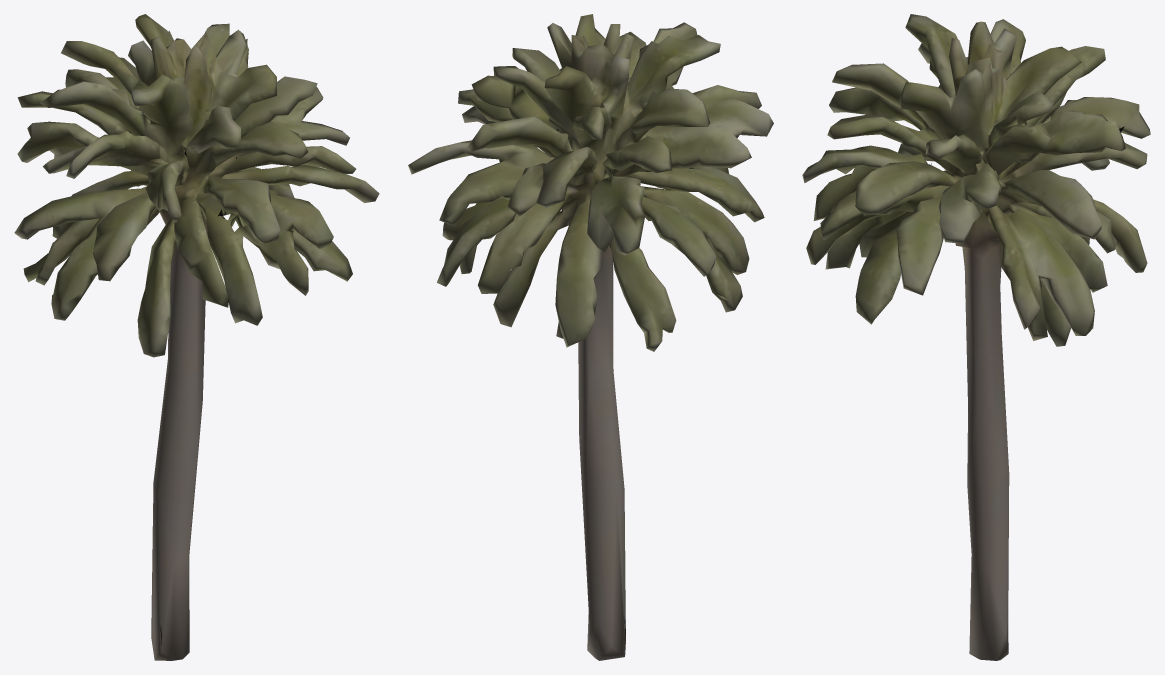
Rendered from tree_palm.glb.
The picture shows the model from 3 angles, left to right: view 1: azimuth 30°, elevation 25°; view 2: azimuth 150°, elevation 25°; view 3: azimuth 270°, elevation 25°; orthographic projection.
Parts seen in each view (by area): view 1: tree_palm; view 2: tree_palm; view 3: tree_palm.
Part boxes in pixels (x1,y1,x2,y2): tree_palm: (14,14,379,660); tree_palm: (408,14,773,660); tree_palm: (802,14,1150,660).
Size of the model in its own units: 4.95 by 9.84 by 4.95.
Materials: 1 (1 with a texture image).
